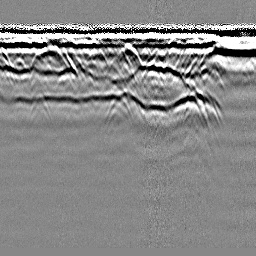cavity: (111, 41, 142, 68)
